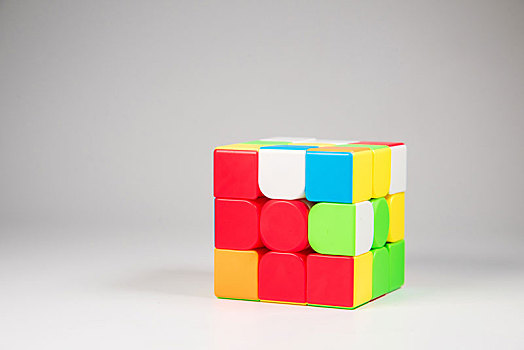cube: (215, 135, 405, 312)
